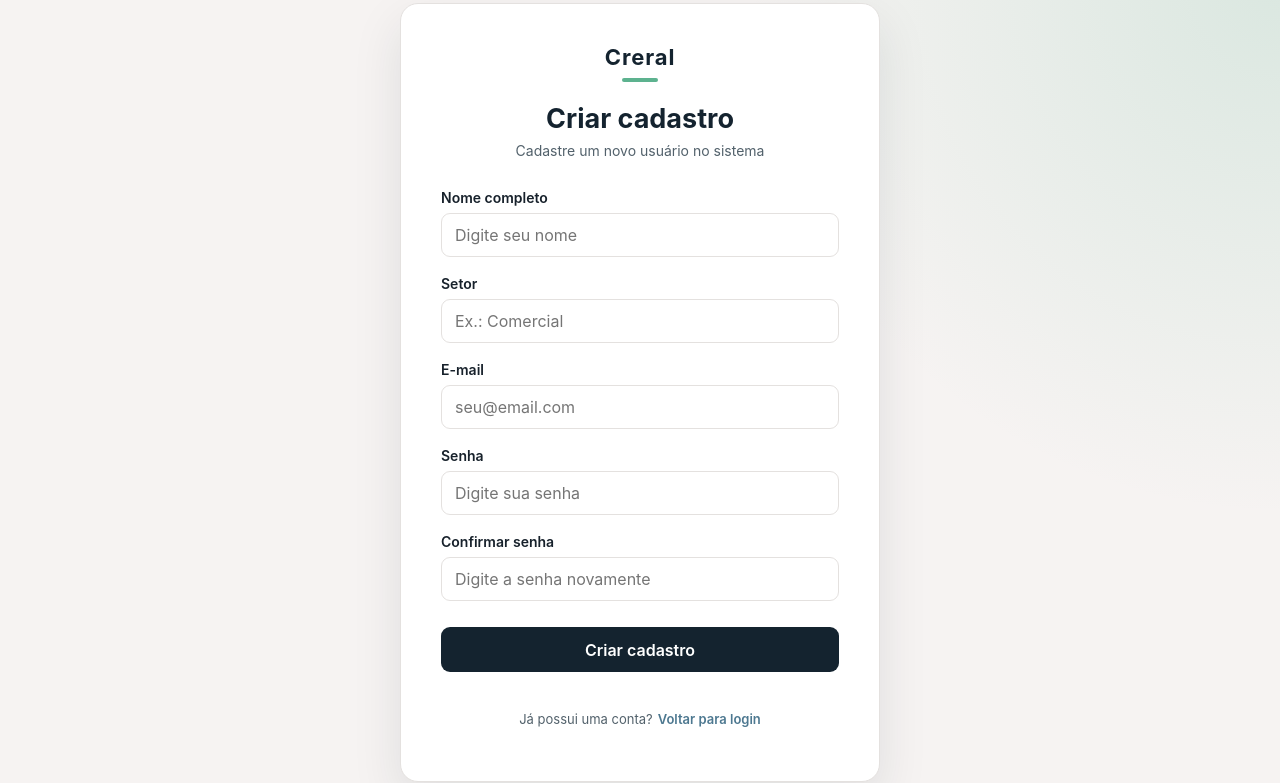
Test: AUT-12: validação mantém os cinco campos, {"Senha":"12345","Confirmar senha":"12345"}
The width and height of the screenshot is (1280, 783).
Type " Ana " into the field labelled "Nome completo". click: (640, 235)
box: [441, 213, 839, 257]
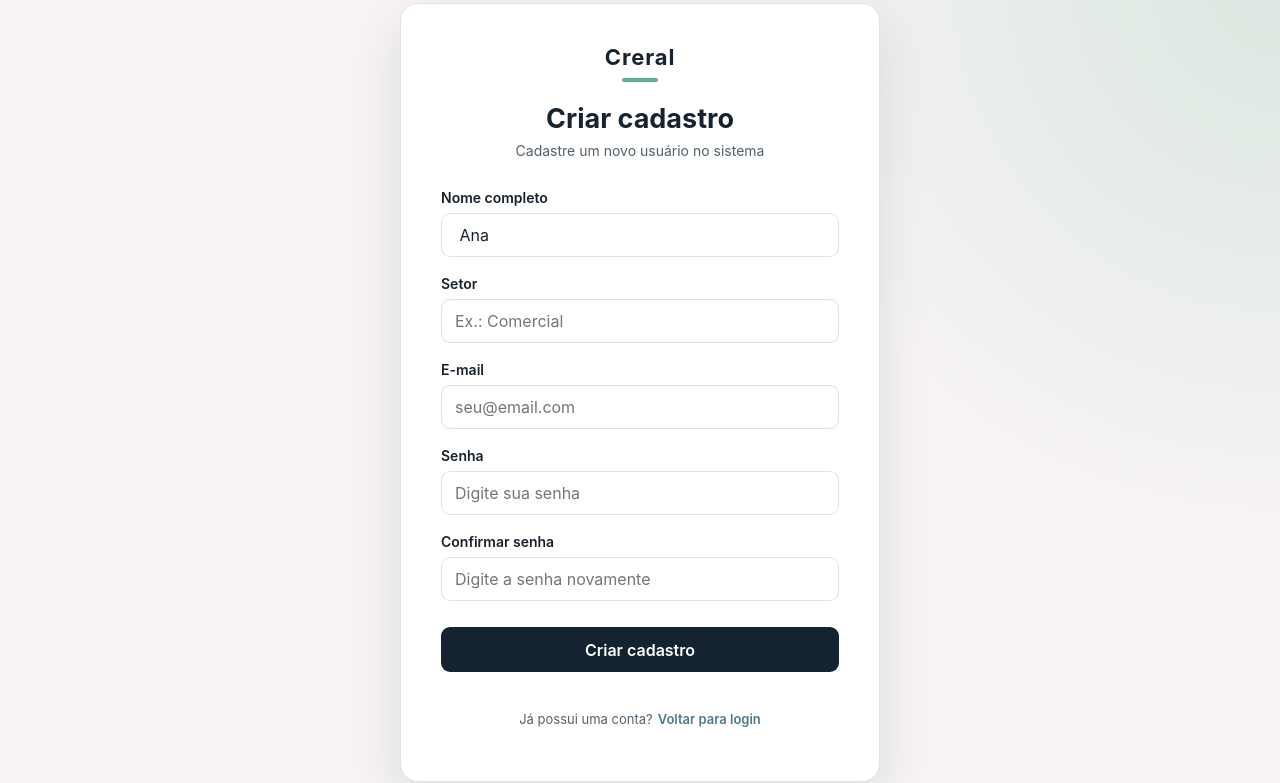
Type " Campo " into the field labelled "Setor". click: (640, 321)
box: [441, 299, 839, 343]
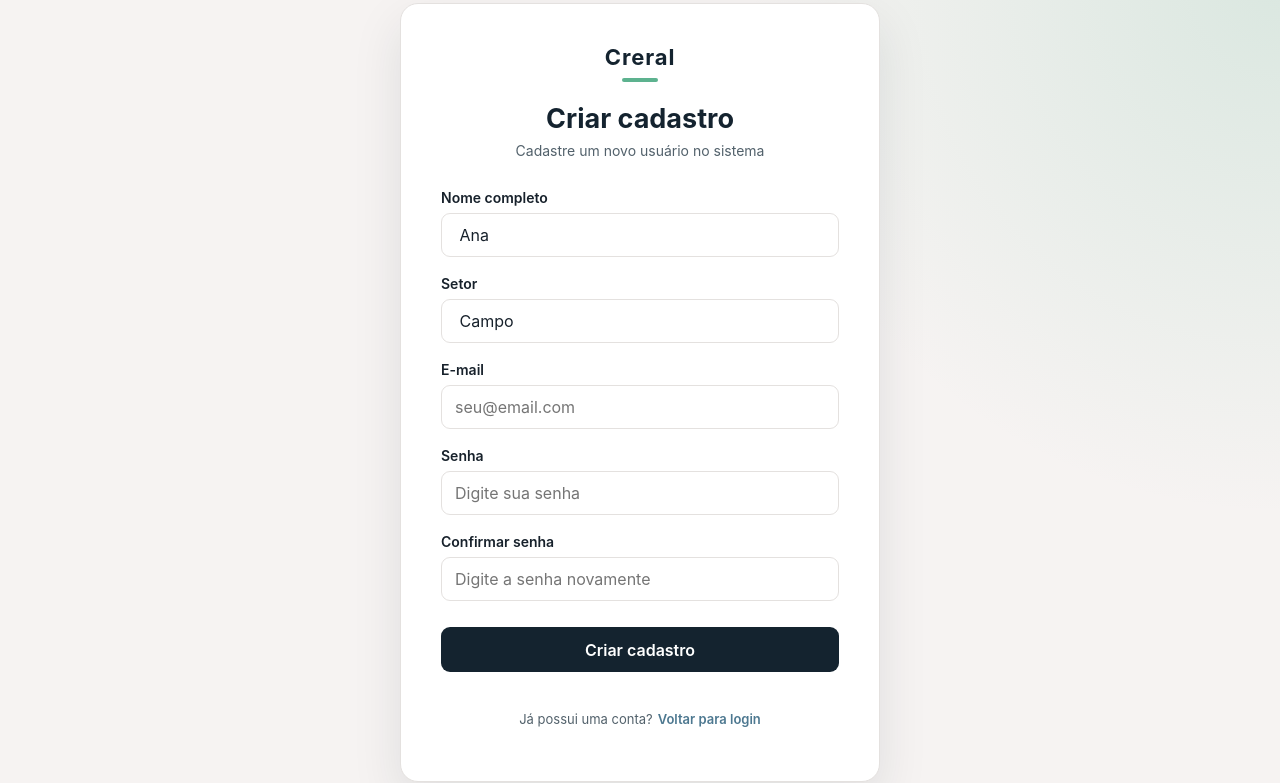
Type "ana@example.test" into the field labelled "E-mail". click: (640, 407)
box: [441, 385, 839, 429]
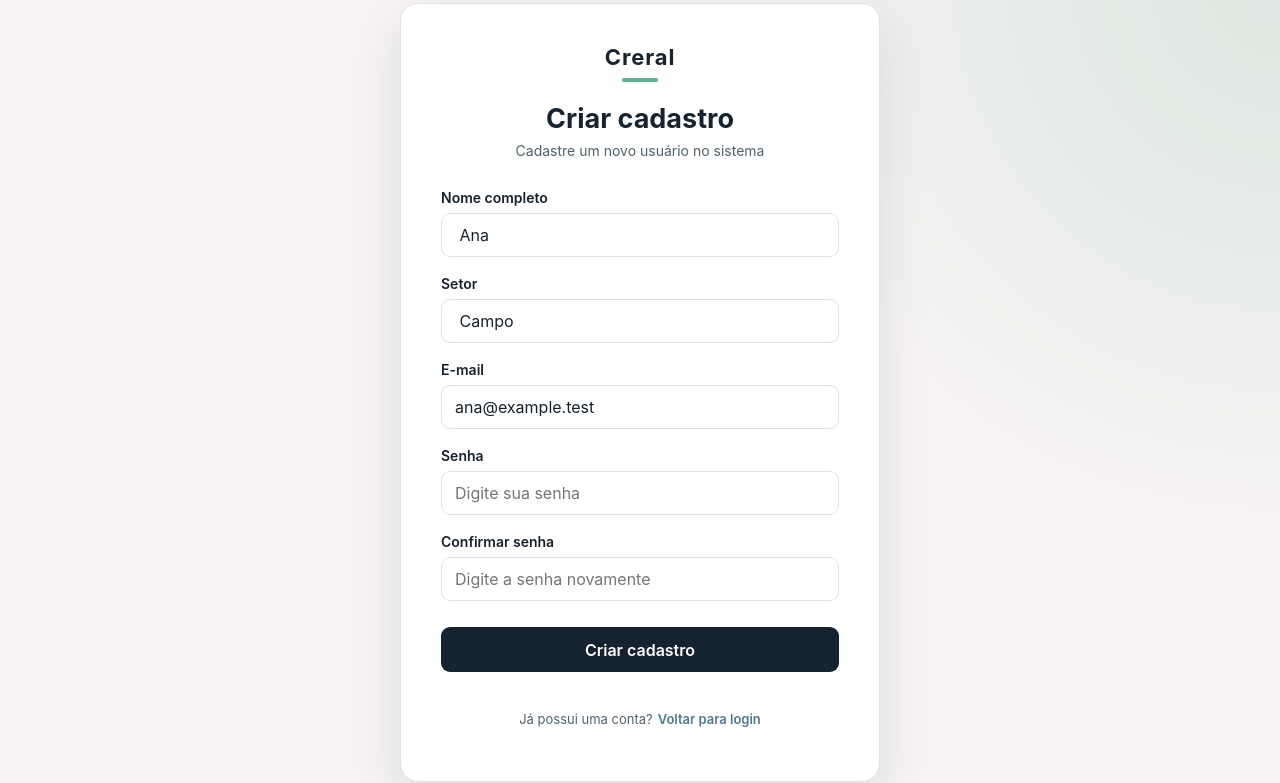
Type "12345" into the password field labelled "Senha". click: (640, 493)
box: [441, 471, 839, 515]
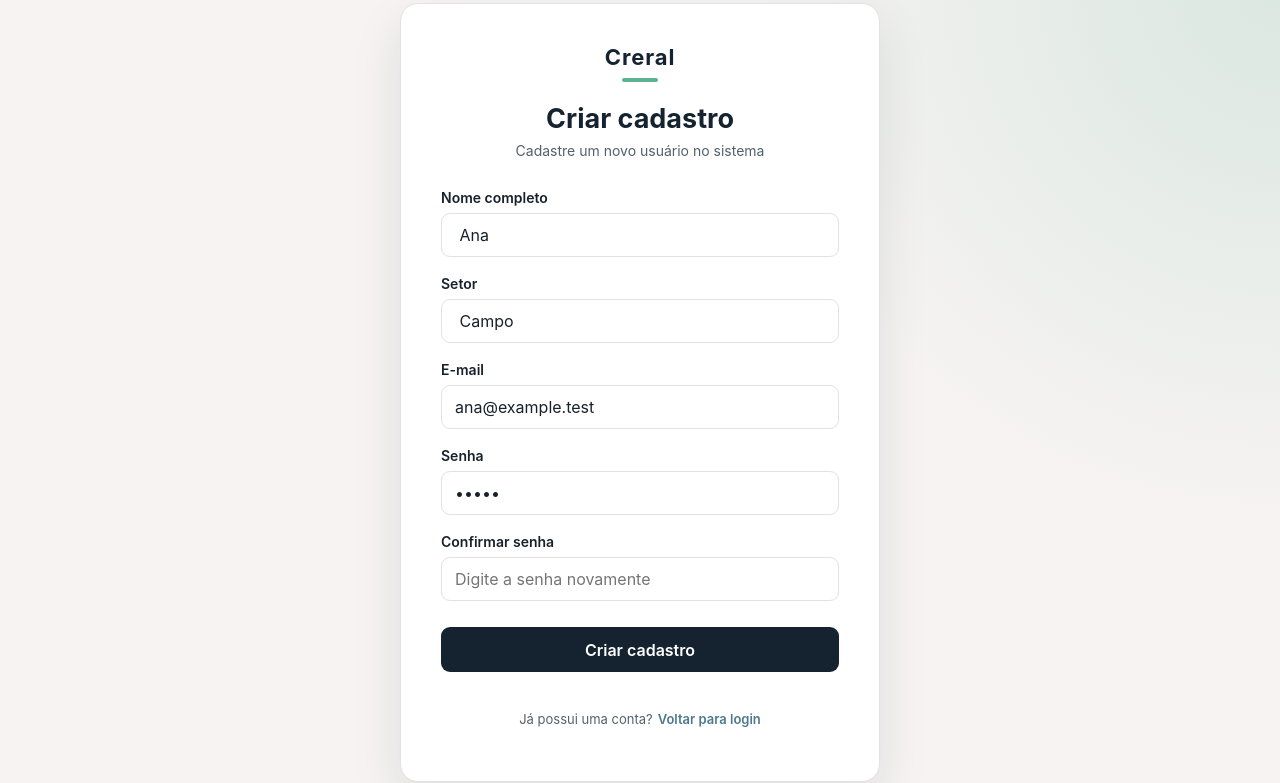
Type "12345" into the password field labelled "Confirmar senha". click: (640, 579)
box: [441, 557, 839, 601]
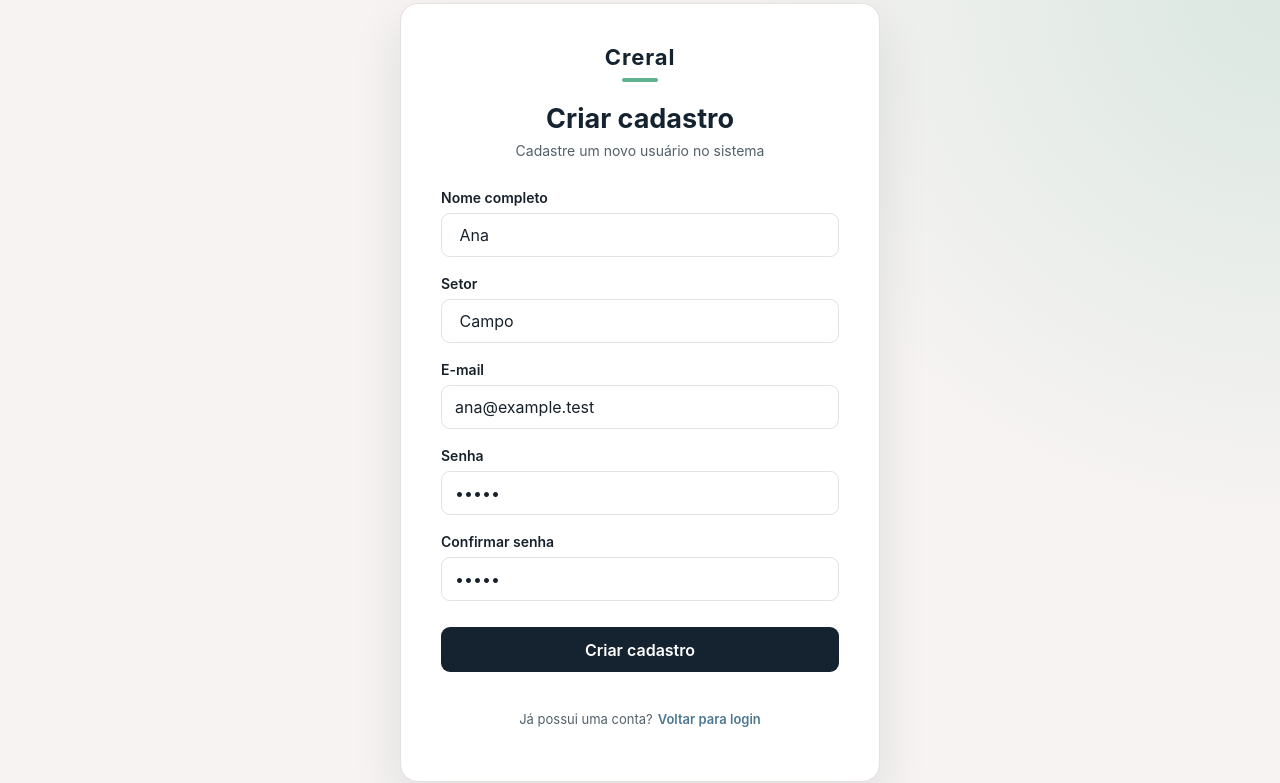
Click the button "Criar cadastro". click: (640, 650)
box: [441, 627, 839, 672]
(page scrolled)
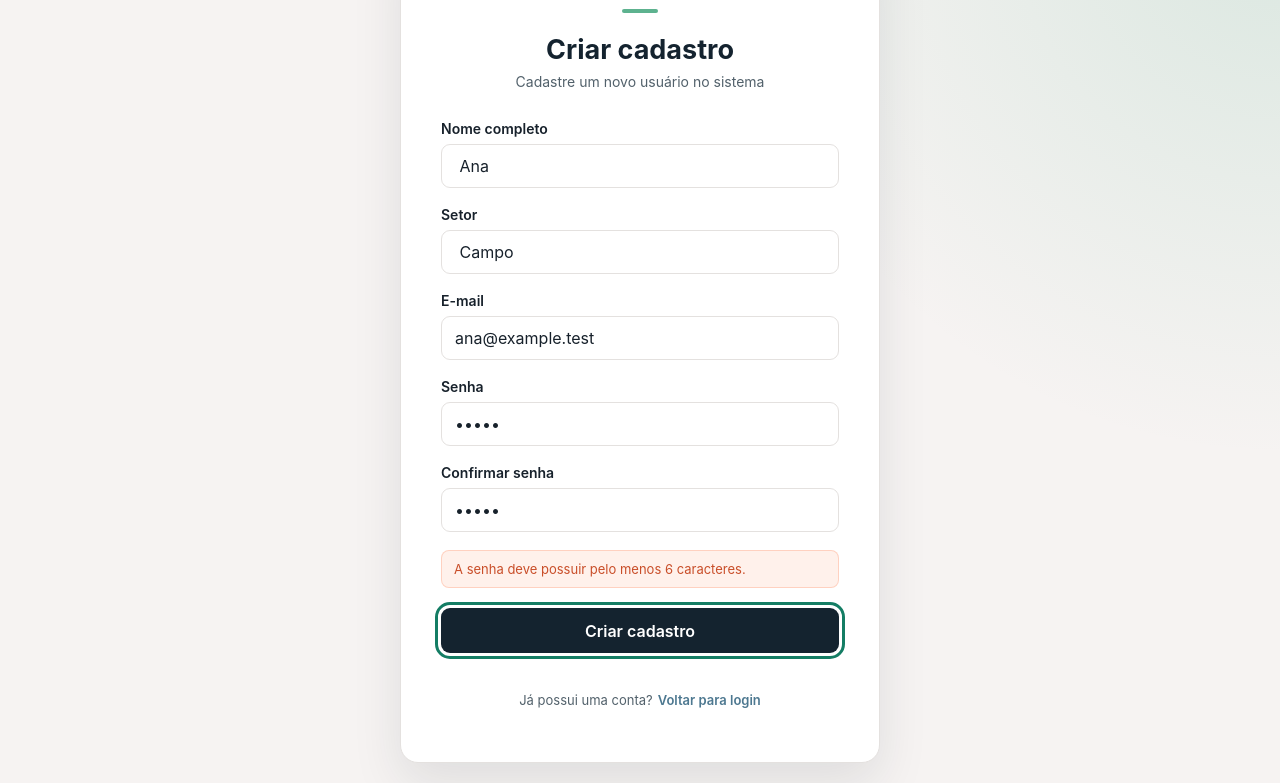
expect the field labelled "Nome completo" is enabled: met, box [441, 144, 839, 188]
expect the message reads "A senha deve possuir pelo menos 6 caracteres.": met, box [454, 561, 746, 577]
